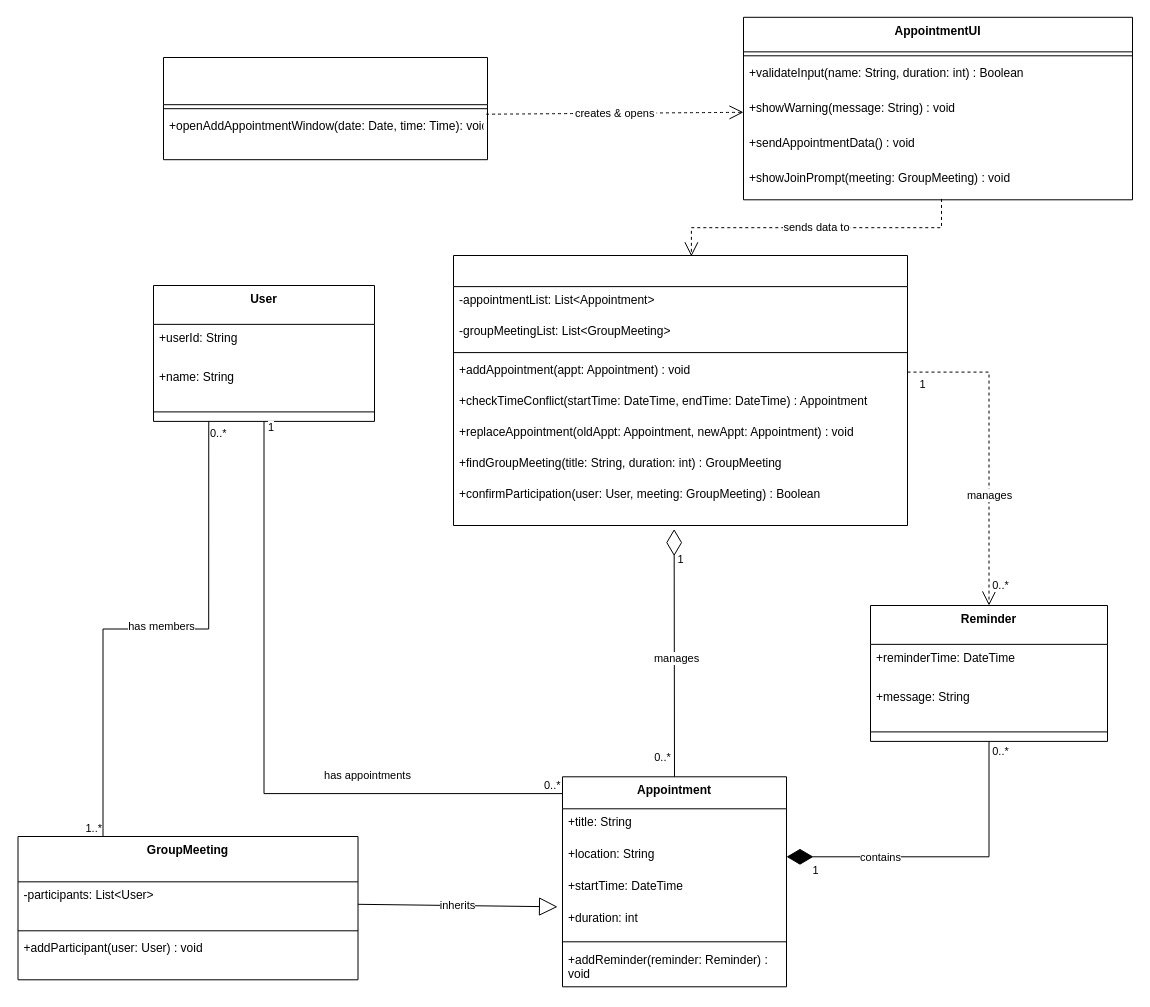
This 1150x1007 diagram has some shape labels left out. The shapes that lost their labels are listed below. From the top down, each one's box as (x1, y1, x2, y2) in pixels, then its label:
(162, 56, 488, 160): CalendarUI
(452, 254, 908, 526): AppointmentController
